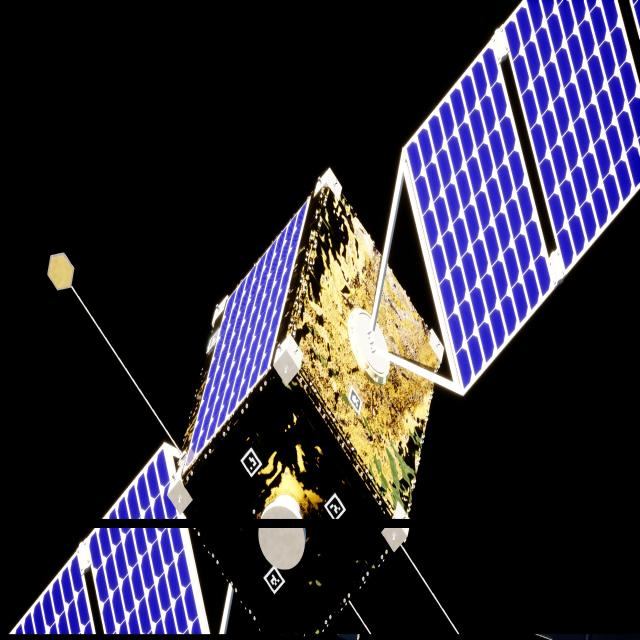medium_debris: (13, 0, 640, 640)
